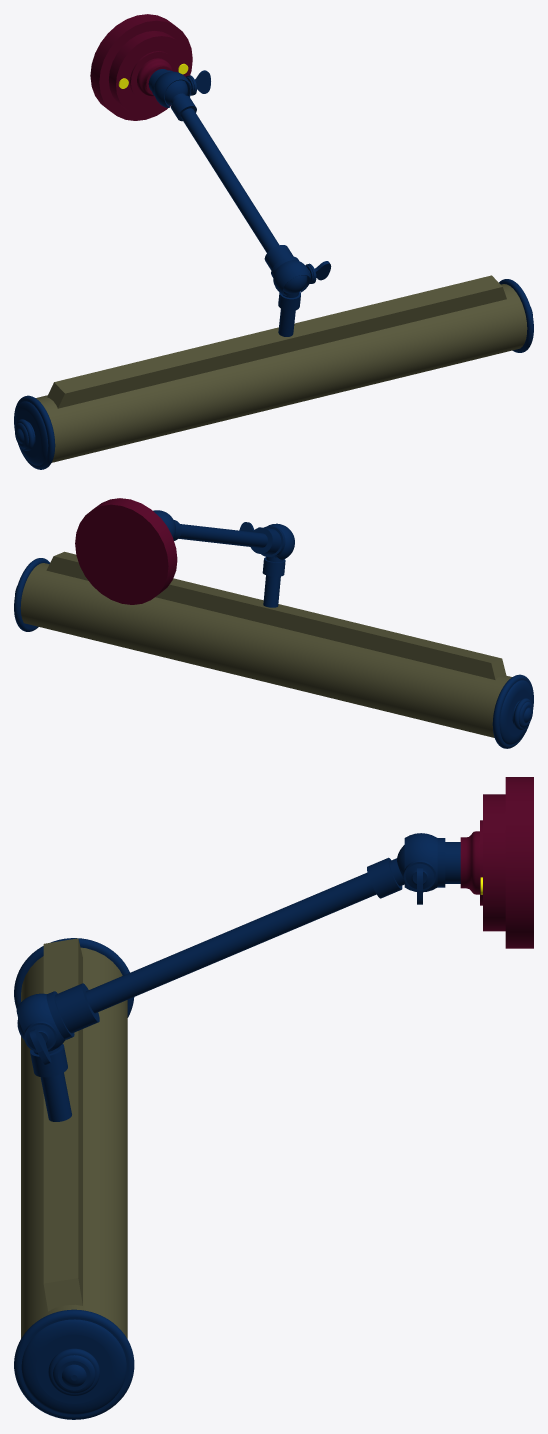
The model's file is Eichholtz Wall Lamp Easy Living M.obj.
3 renders of one model, top to bottom at view 1: azimuth 30°, elevation 25°; view 2: azimuth 150°, elevation 25°; view 3: azimuth 270°, elevation 25°, orthographic. The views are drawn at different scales.
Visible parts, largest first — view 1: Cylinder01, Shape02, Object01, Shape06, Sphere02, Sphere03, Sphere04, Sphere01, Shape07; view 2: Cylinder01, Shape02, Shape06, Object01, Sphere02, Shape07, Object002, Sphere01; view 3: Cylinder01, Shape07, Shape02, Object01, Sphere02, Sphere03, Sphere04, Shape06, Object002, Sphere01.
Boxes of the visible parts, bbox=[...] form: Cylinder01: bbox=[36, 275, 527, 462]; Shape02: bbox=[90, 14, 192, 120]; Object01: bbox=[180, 108, 279, 252]; Shape06: bbox=[14, 395, 55, 469]; Sphere02: bbox=[264, 245, 331, 295]; Sphere03: bbox=[148, 69, 210, 107]; Sphere04: bbox=[165, 80, 196, 121]; Sphere01: bbox=[278, 275, 307, 311]; Shape07: bbox=[499, 279, 533, 352]; Cylinder01: bbox=[20, 551, 511, 737]; Shape02: bbox=[75, 498, 177, 604]; Shape06: bbox=[492, 674, 533, 748]; Object01: bbox=[178, 524, 267, 547]; Sphere02: bbox=[239, 522, 294, 559]; Shape07: bbox=[14, 558, 49, 631]; Object002: bbox=[263, 575, 280, 607]; Sphere01: bbox=[262, 556, 285, 576]; Cylinder01: bbox=[21, 938, 127, 1338]; Shape07: bbox=[14, 1309, 134, 1419]; Shape02: bbox=[460, 777, 533, 948]; Object01: bbox=[85, 872, 376, 1013]; Sphere02: bbox=[16, 983, 99, 1065]; Sphere03: bbox=[403, 833, 460, 904]; Sphere04: bbox=[367, 845, 404, 898]; Shape06: bbox=[14, 938, 134, 1017]; Object002: bbox=[40, 1072, 71, 1121]; Sphere01: bbox=[17, 1018, 67, 1077].
Size of the model in its own units: 386 by 205 by 213.
